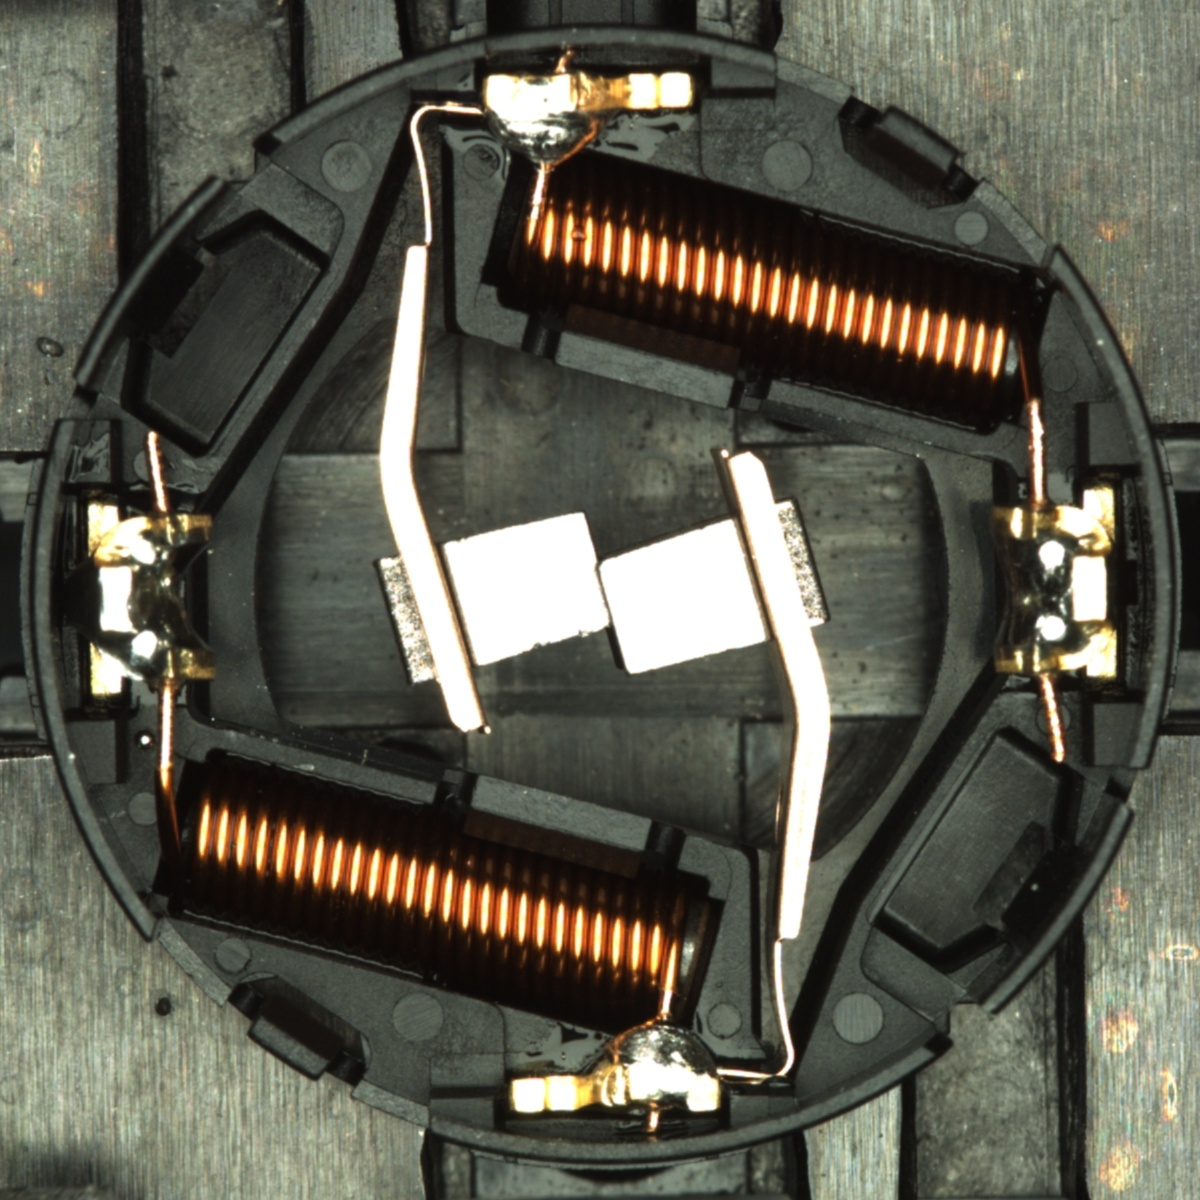1: (714, 929, 943, 1154), (256, 32, 485, 256)
2: (256, 929, 485, 1154), (714, 32, 943, 256)
3: (26, 256, 256, 480), (943, 704, 1173, 929)
4: (256, 256, 485, 480), (714, 704, 943, 929)
5: (485, 816, 714, 1042), (485, 144, 714, 368)
6: (714, 256, 943, 480), (256, 704, 485, 929)
7: (943, 256, 1173, 480), (26, 704, 256, 929)
bui_chi: (134, 729, 155, 751)
cacbon: (395, 499, 804, 686)
chau_dien: (982, 487, 1124, 686), (81, 497, 221, 698)
tay_choi: (481, 70, 699, 173), (509, 1016, 723, 1116)
thanh_de: (955, 786, 1142, 1031), (60, 164, 244, 404)
